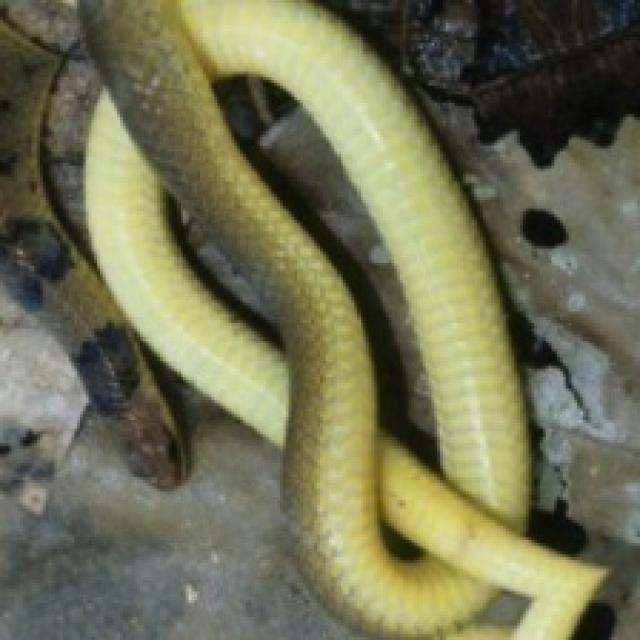luzon dwarf snake: (80, 0, 486, 634), (86, 3, 483, 634), (369, 89, 526, 529), (0, 23, 57, 223)
